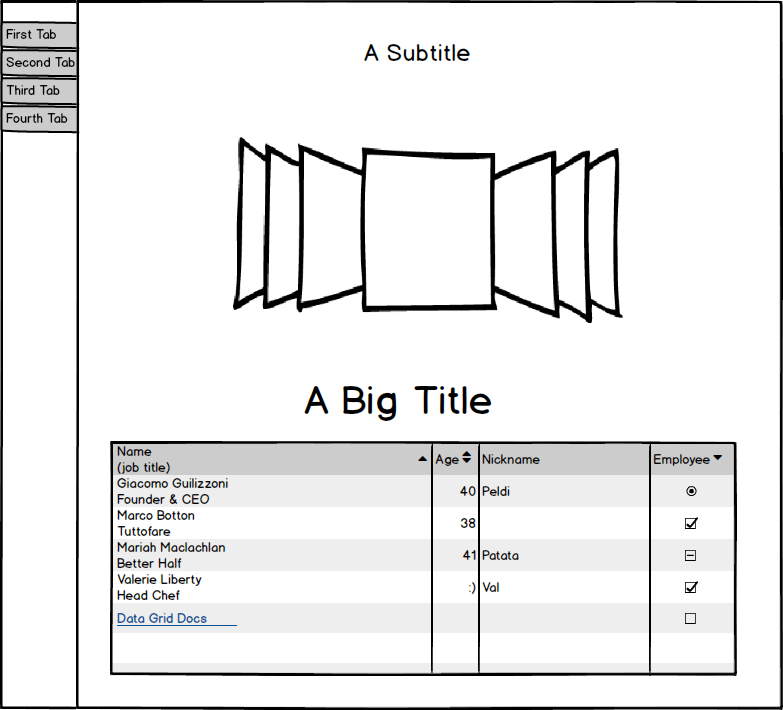h1: (295, 368, 498, 427), (354, 31, 476, 74)
sidebar: (1, 14, 84, 140)
slideshow: (221, 129, 631, 324)
table: (104, 438, 742, 677)
